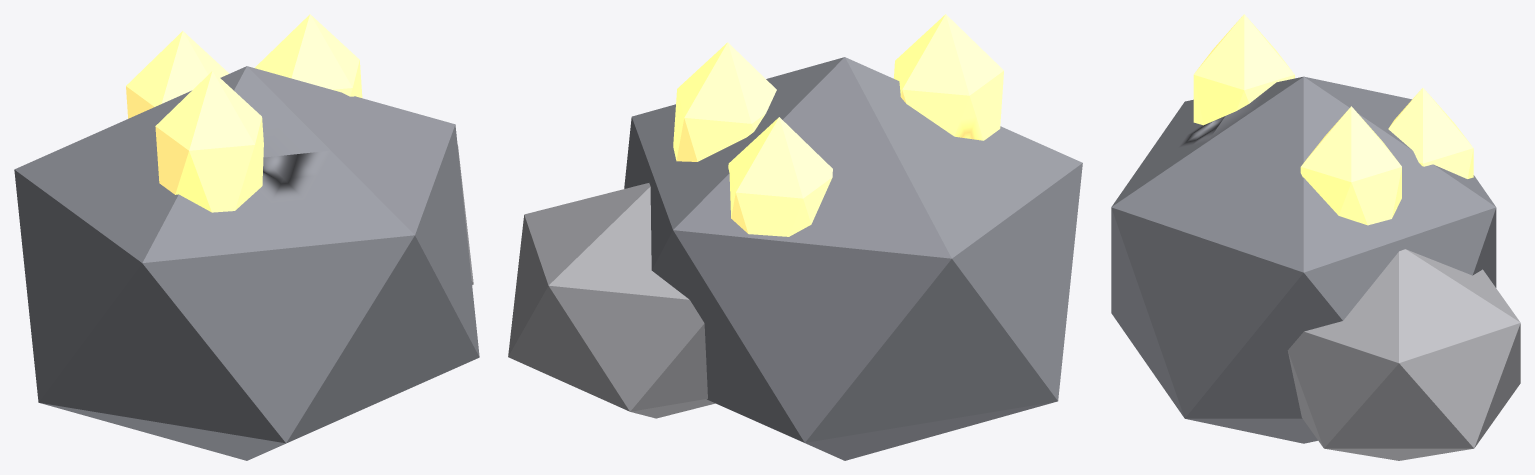
The model's file is gold_node.glb.
3 renders of one model, left to right at view 1: azimuth 30°, elevation 25°; view 2: azimuth 150°, elevation 25°; view 3: azimuth 270°, elevation 25°, orthographic. The views are drawn at different scales.
Visible parts, largest first — view 1: GoldNodeRock; view 2: GoldNodeRock; view 3: GoldNodeRock.
Boxes of the visible parts, x1,y1,x2,y2 form: GoldNodeRock: [14, 14, 479, 460]; GoldNodeRock: [508, 14, 1082, 460]; GoldNodeRock: [1111, 14, 1520, 460].
Size of the model in its own units: 0.8482 by 0.74 by 0.6874.
